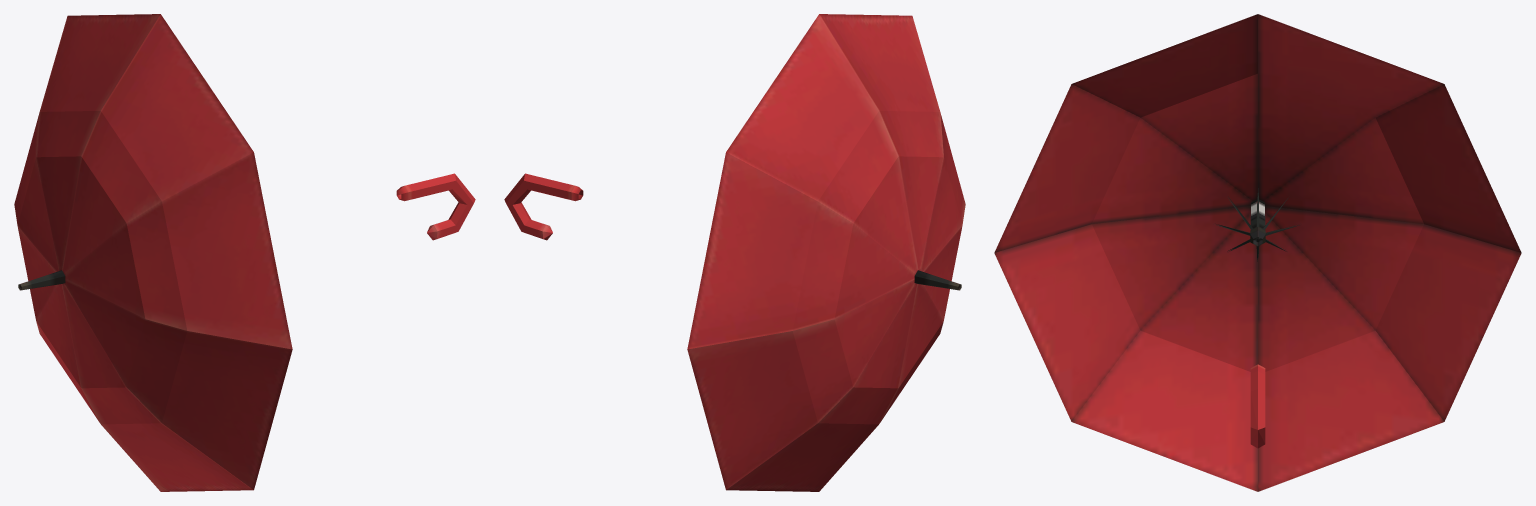
The model's file is Rabbit_umbrella.obj.
3 views of the same model, side by side, from view 1: azimuth 30°, elevation 25°; view 2: azimuth 150°, elevation 25°; view 3: azimuth 270°, elevation 25° (orthographic).
Visible parts, largest first — view 1: Rabbit_umbrella_tri; view 2: Rabbit_umbrella_tri; view 3: Rabbit_umbrella_tri.
Boxes of the visible parts, <box> form: Rabbit_umbrella_tri: <box>14,14,475,491</box>; Rabbit_umbrella_tri: <box>504,14,965,491</box>; Rabbit_umbrella_tri: <box>994,14,1521,491</box>.
Bounding box in the file's own units: 0.7348 × 0.7365 × 0.7365.
Materials: 1 (1 with a texture image).
